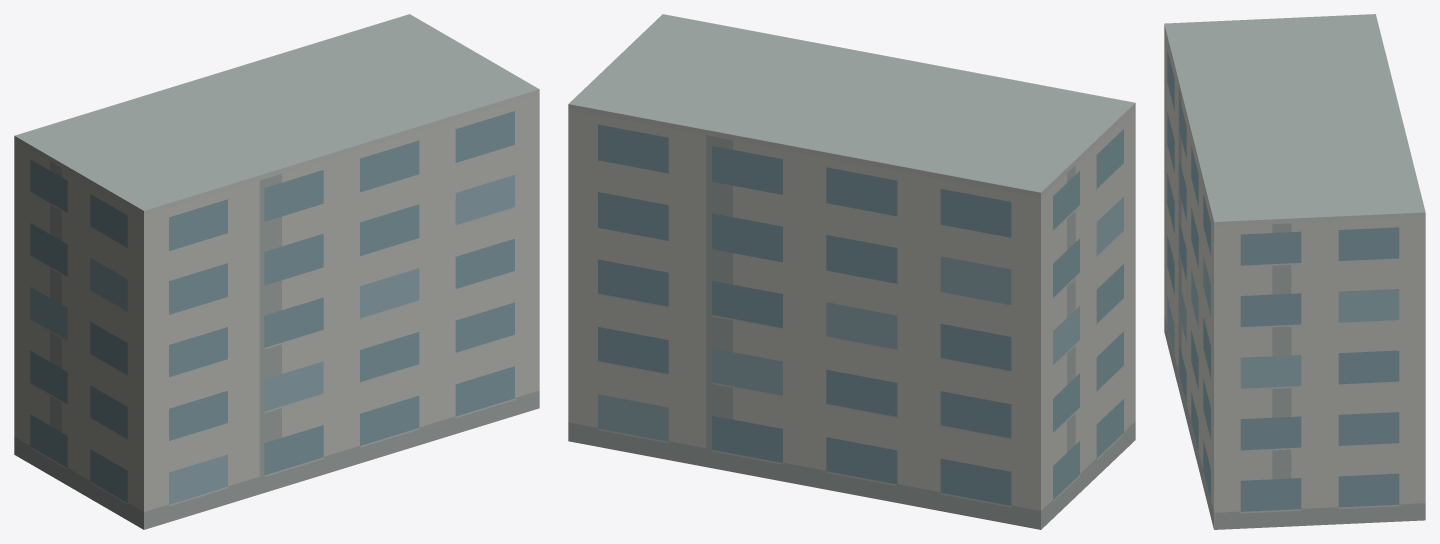
The model's file is residential-414e08e2-6160-4038-8450-01dc9802aabb.glb.
3 views of the same model, side by side, from view 1: azimuth 30°, elevation 25°; view 2: azimuth 150°, elevation 25°; view 3: azimuth 270°, elevation 25° (orthographic). The views are drawn at different scales.
Parts seen in each view (by area): view 1: residential-414e08e2-6160-4038-8450-01dc9802aabb.tmp; view 2: residential-414e08e2-6160-4038-8450-01dc9802aabb.tmp; view 3: residential-414e08e2-6160-4038-8450-01dc9802aabb.tmp.
Boxes of the visible parts, bbox=[...] form: residential-414e08e2-6160-4038-8450-01dc9802aabb.tmp: bbox=[14, 14, 539, 529]; residential-414e08e2-6160-4038-8450-01dc9802aabb.tmp: bbox=[568, 14, 1135, 529]; residential-414e08e2-6160-4038-8450-01dc9802aabb.tmp: bbox=[1164, 14, 1425, 529].
Size of the model in its own units: 22.1 by 15.25 by 11.75.
